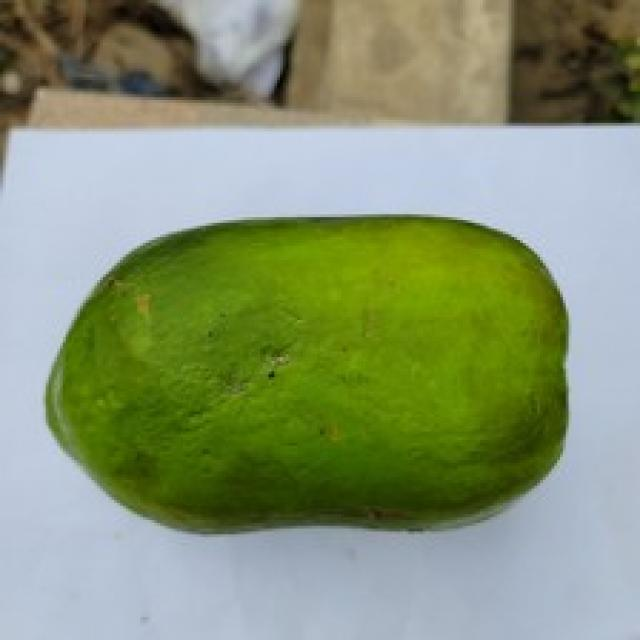Pepaya unrippen: (41, 213, 585, 543)
